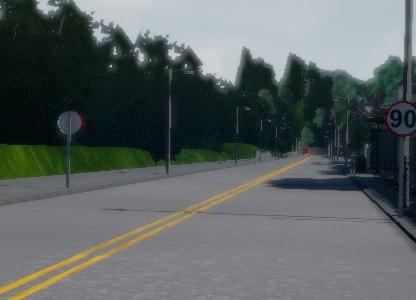Speed_90: (384, 98, 416, 139)
